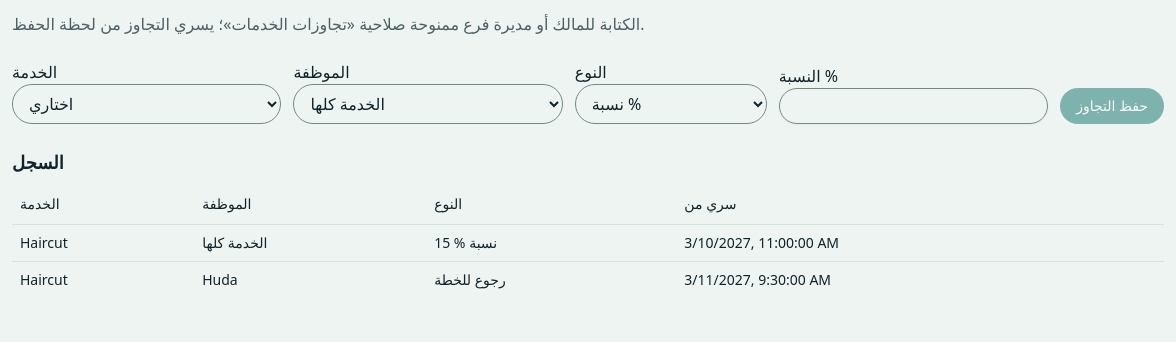
Test case: saves a service-wide override with a null staff and no effective-date input
The width and height of the screenshot is (1176, 342).
Select "Haircut" in the dropdown labelled "الخدمة" at (147, 104), box [12, 84, 281, 124]
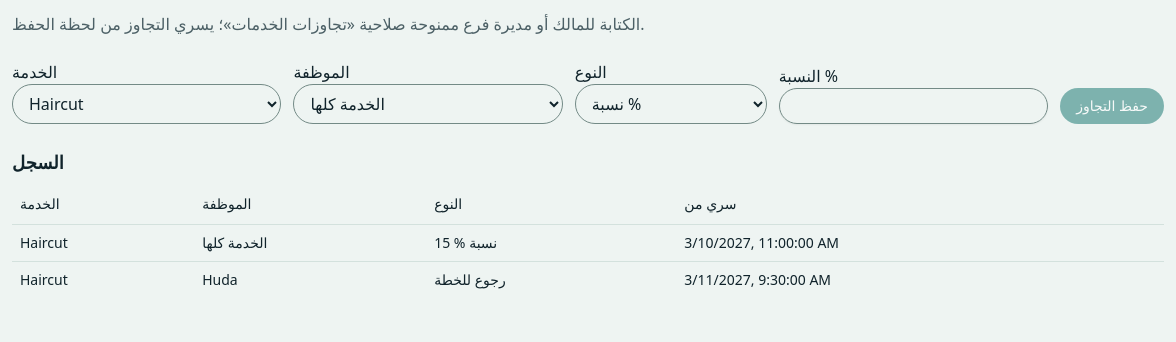
Select "الخدمة كلها" in the dropdown labelled "الموظفة" at (428, 104), box [293, 84, 563, 124]
Type "15" into the field labelled "النسبة %" at (914, 106), box [779, 88, 1048, 124]
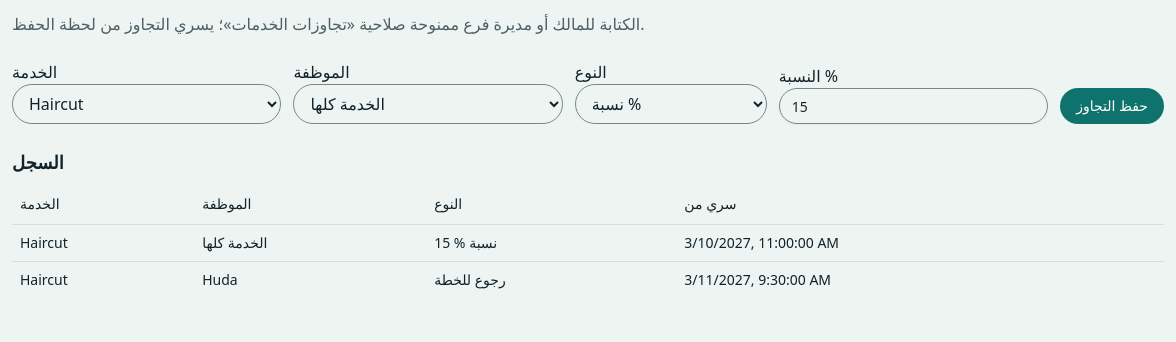
Click the button "حفظ التجاوز" at (1112, 106), box [1060, 88, 1164, 124]
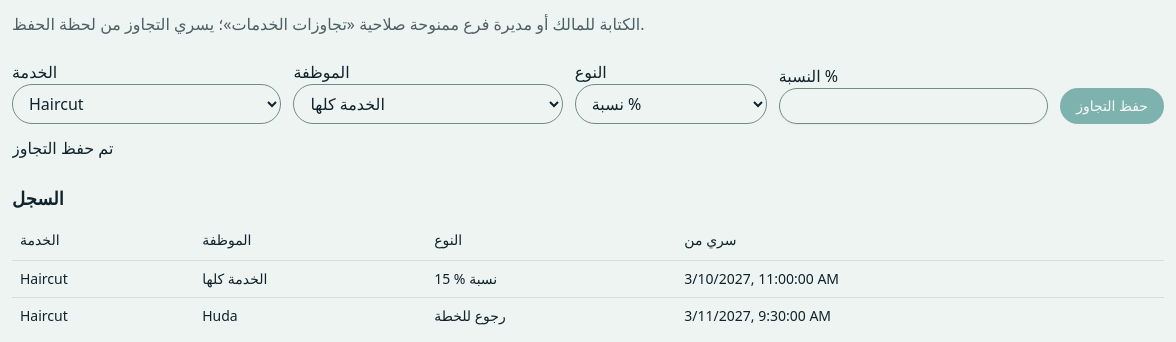
Expected: the text "تم حفظ التجاوز" is shown, [12, 137, 113, 159]
